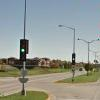Traffic light: (11, 34, 41, 70)
